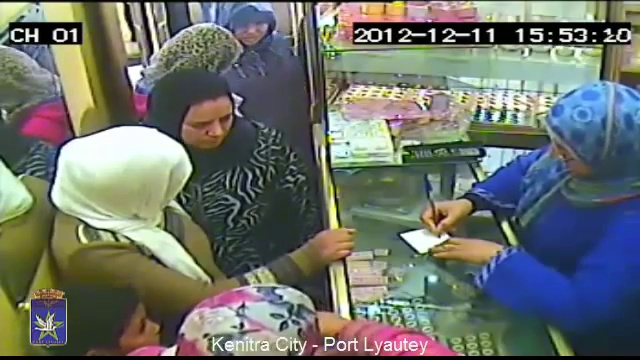face: (98, 302, 163, 352), (186, 97, 234, 149), (236, 19, 268, 45)
